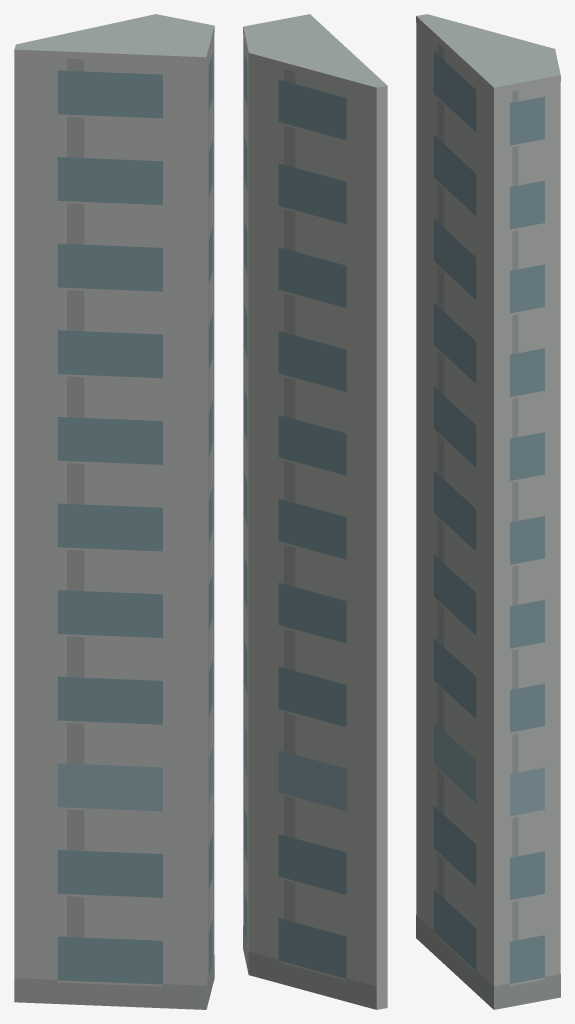
The model's file is survey-upis-32564956.glb.
The picture shows the model from 3 angles, left to right: view 1: azimuth 30°, elevation 25°; view 2: azimuth 150°, elevation 25°; view 3: azimuth 330°, elevation 25°; orthographic projection. The views are drawn at different scales.
Visible parts, largest first — view 1: survey-upis-32564956.tmp; view 2: survey-upis-32564956.tmp; view 3: survey-upis-32564956.tmp.
Boxes of the visible parts, x1,y1,x2,y2 form: survey-upis-32564956.tmp: [14, 14, 214, 1009]; survey-upis-32564956.tmp: [243, 14, 387, 1009]; survey-upis-32564956.tmp: [416, 14, 560, 1009].
Bounding box in the file's own units: 6.45 × 33.55 × 3.89.
